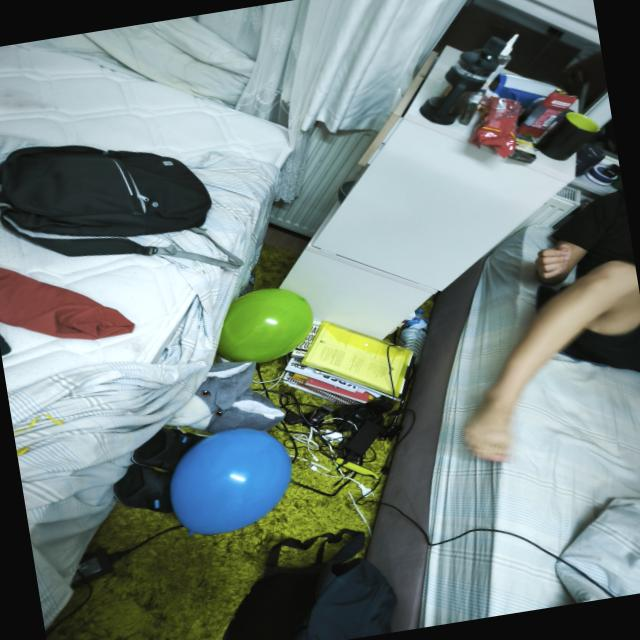balloon: (171, 428, 292, 534), (219, 289, 313, 362)
